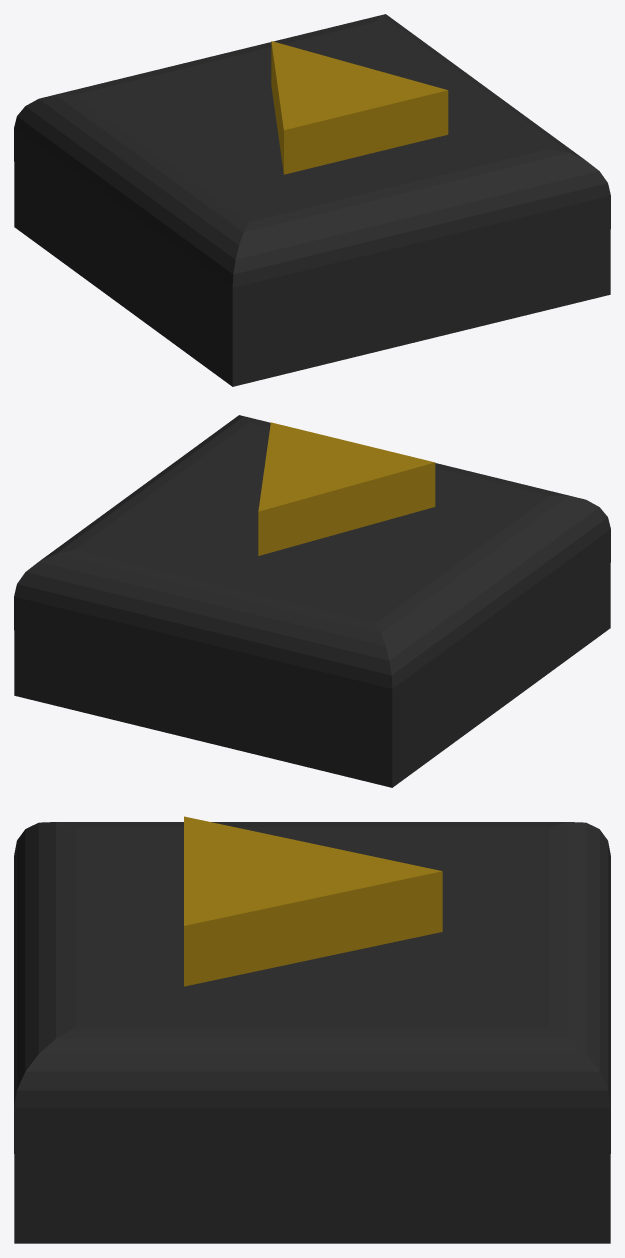
File: PatephoneButton_1.fbx
3 views of the same model, one above another, from view 1: azimuth 30°, elevation 25°; view 2: azimuth 150°, elevation 25°; view 3: azimuth 270°, elevation 25° (orthographic). The views are drawn at different scales.
Visible parts, largest first — view 1: Cube.005; view 2: Cube.005; view 3: Cube.005.
Boxes of the visible parts, <box> form: Cube.005: <box>14,14,610,386</box>; Cube.005: <box>14,415,610,787</box>; Cube.005: <box>14,816,610,1243</box>.
Bounding box in the file's own units: 21.51 × 9.97 × 21.51.
